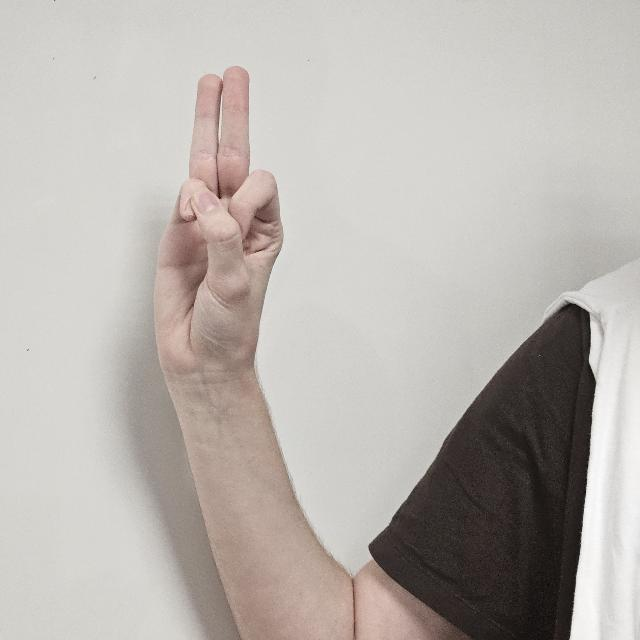R: (156, 64, 288, 416)
